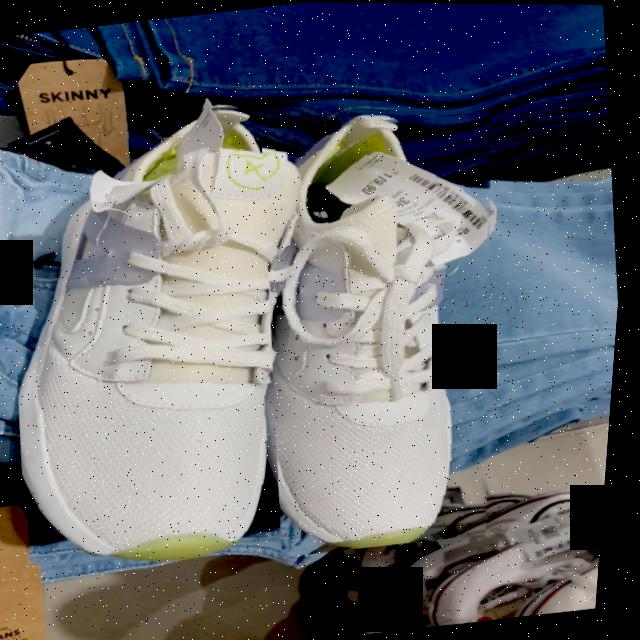shoe: (24, 106, 306, 555), (278, 119, 495, 547)
